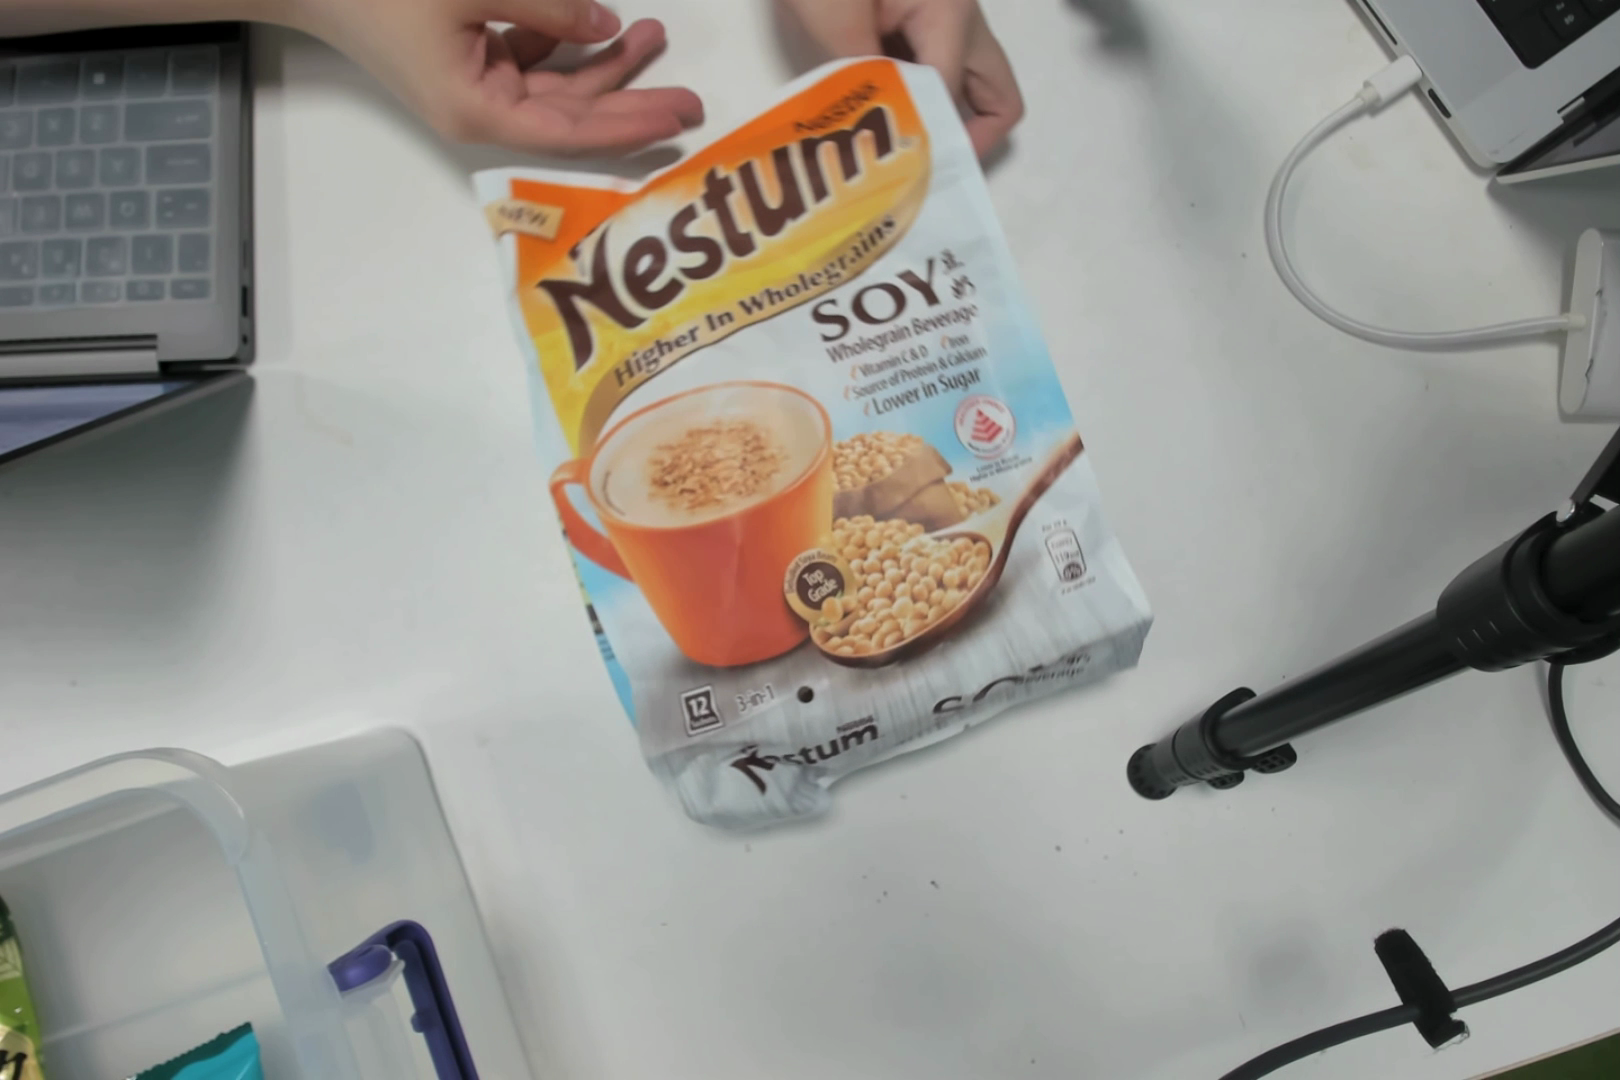e: (546, 142, 1105, 788)
